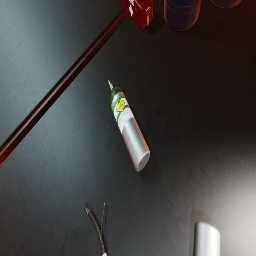0: (108, 80, 150, 171), (193, 221, 220, 256)
FirstAidBox ,: (123, 0, 153, 30)
